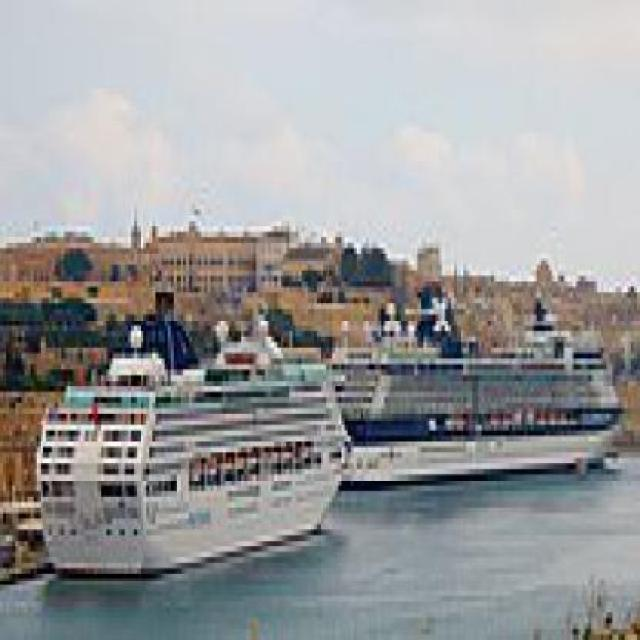cruise: (29, 304, 364, 592), (315, 271, 626, 497)
